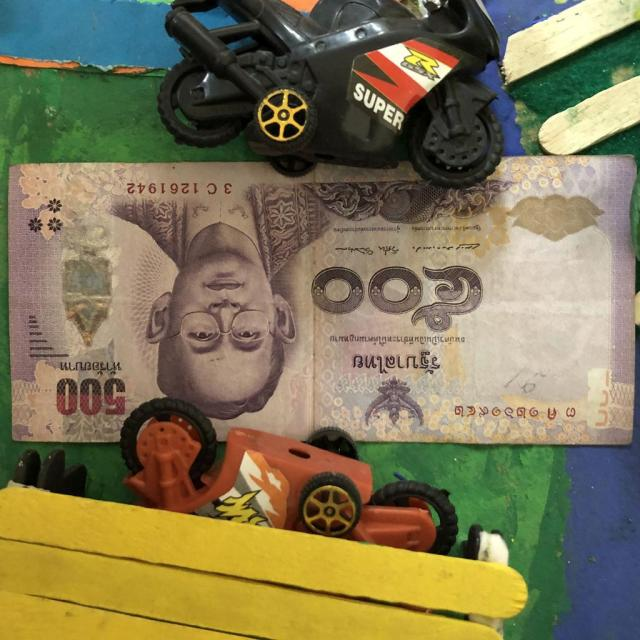THAI500: (6, 156, 638, 448)
